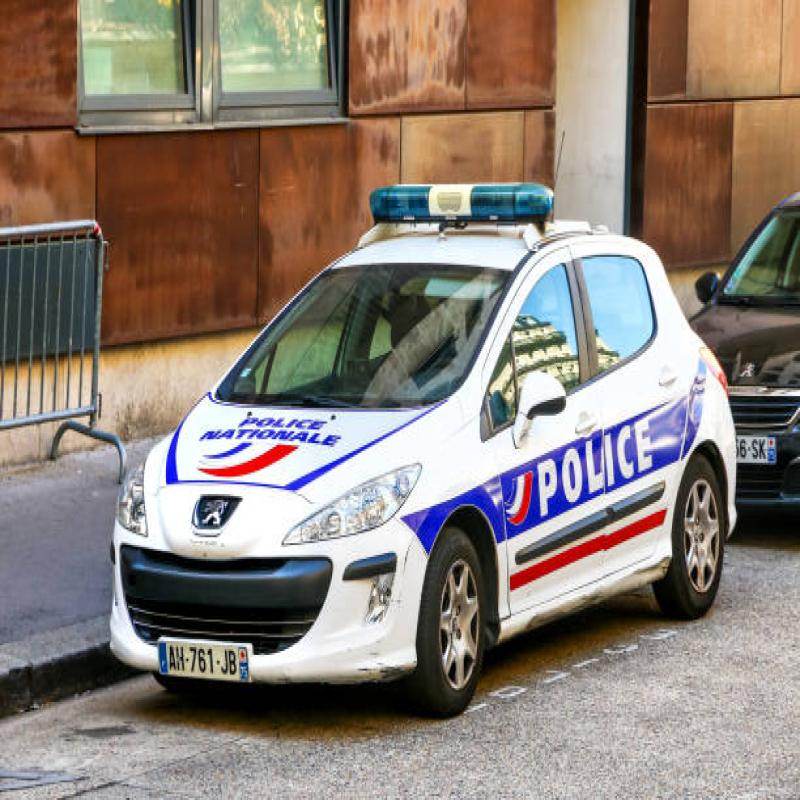AmbulanceSiren: (355, 163, 571, 250)
